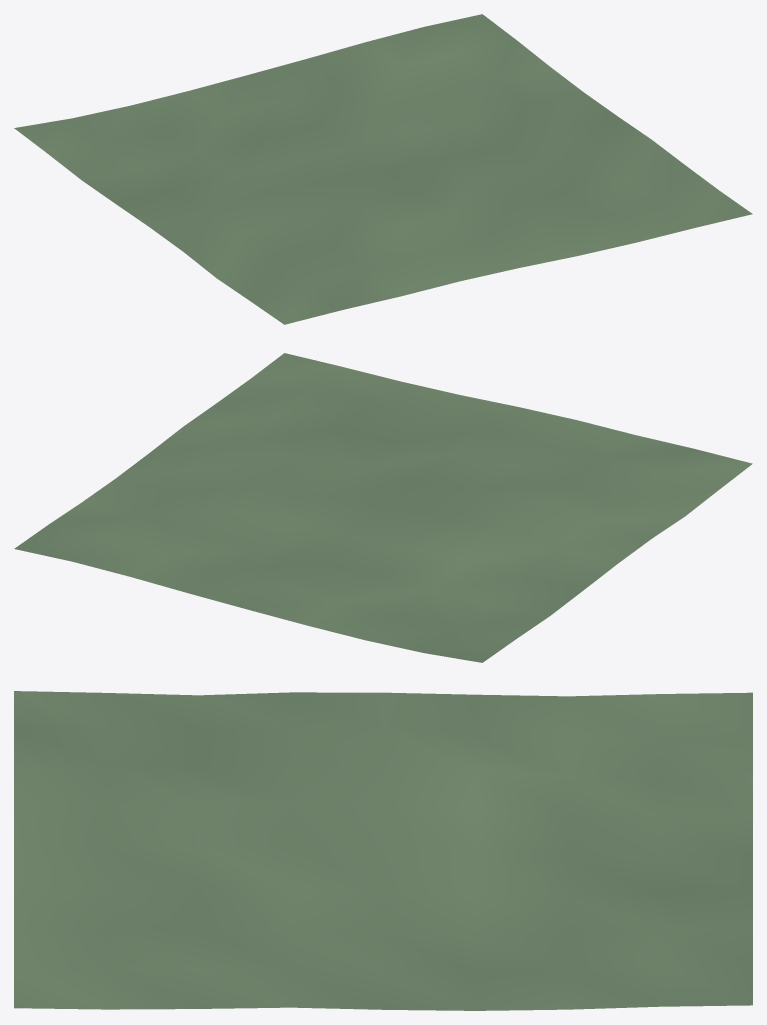
The picture shows the model from 3 angles, top to bottom: view 1: azimuth 30°, elevation 25°; view 2: azimuth 150°, elevation 25°; view 3: azimuth 270°, elevation 25°; orthographic projection. The views are drawn at different scales.
Visible parts, largest first — view 1: Lo; view 2: Lo; view 3: Lo.
Part boxes in pixels (x1,y1,x2,y2): Lo: (14,14,752,324); Lo: (14,353,752,662); Lo: (14,691,752,1010).
Size of the model in its own units: 256 by 6.76 by 256.
